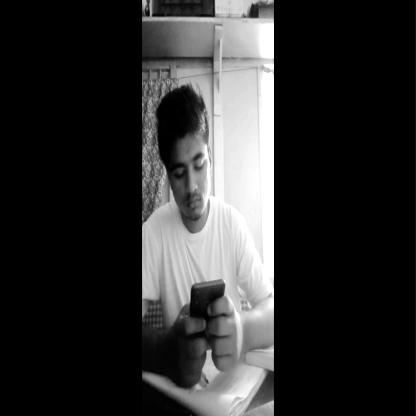Normal: (156, 88, 220, 226)
